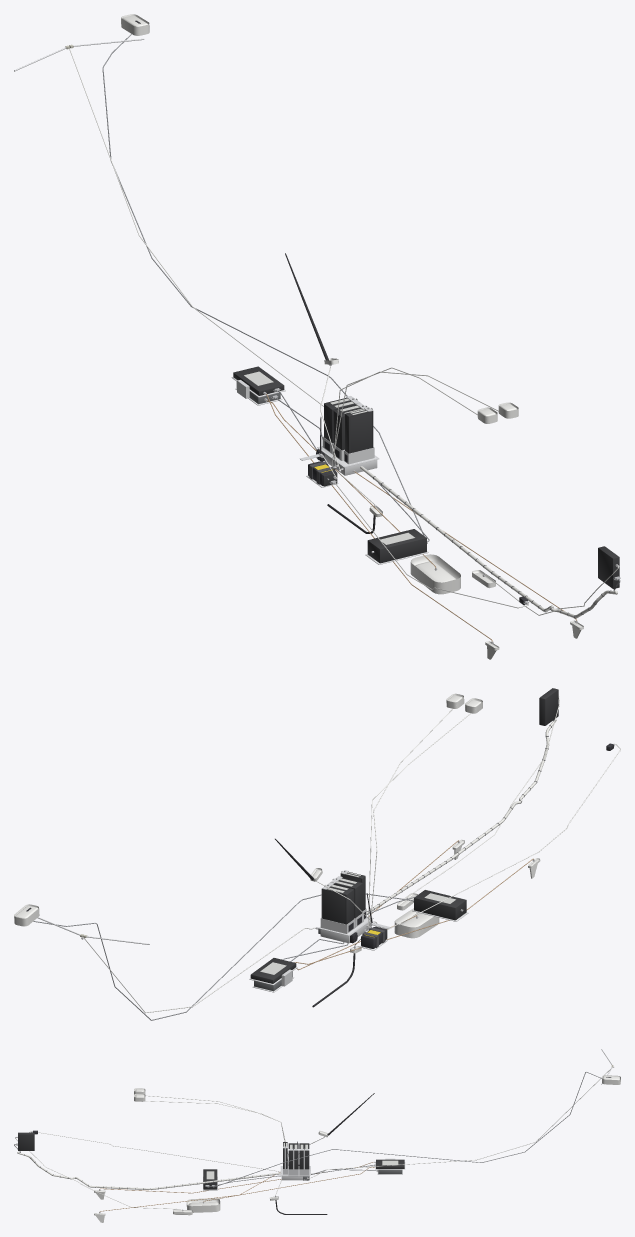
Rendered from da40-radio.glb.
The picture shows the model from 3 angles, top to bottom: view 1: azimuth 30°, elevation 25°; view 2: azimuth 150°, elevation 25°; view 3: azimuth 270°, elevation 25°; orthographic projection. The views are drawn at different scales.
Parts seen in each view (by area): view 1: WX-500 stormscope processor, ADF antenna AN 3500, G1000 main harness (instrument panel → avionics rack), GTX 33 transponder, Stormscope antenna cable → WX-500, DME KN 63; view 2: GIA 63W No 1, WX-500 stormscope processor, G1000 main harness (instrument panel → avionics rack), ADF antenna AN 3500, DME KN 63, Stormscope antenna cable → WX-500, GMA 1347 audio panel housing, Avionics enclosure; view 3: G1000 main harness (instrument panel → avionics rack), Stormscope antenna cable → WX-500, ADF antenna AN 3500, Coax: NAV antenna → splitter, GMA 1347 audio panel housing, DME KN 63, WX-500 stormscope processor, ELT remote switch cable, GIA 63W No 1, GIA 63W No 2.
Part boxes in pixels (x1=…): WX-500 stormscope processor: x1=367, y1=529, x2=427, y2=563; ADF antenna AN 3500: x1=410, y1=554, x2=460, y2=594; G1000 main harness (instrument panel → avionics rack): x1=360, y1=466, x2=617, y2=618; GTX 33 transponder: x1=345, y1=409, x2=373, y2=453; Stormscope antenna cable → WX-500: x1=102, y1=34, x2=424, y2=535; DME KN 63: x1=233, y1=366, x2=284, y2=395; GIA 63W No 1: x1=321, y1=884, x2=354, y2=924; WX-500 stormscope processor: x1=413, y1=890, x2=466, y2=920; G1000 main harness (instrument panel → avionics rack): x1=366, y1=719, x2=556, y2=914; ADF antenna AN 3500: x1=394, y1=908, x2=439, y2=938; DME KN 63: x1=250, y1=958, x2=296, y2=983; Stormscope antenna cable → WX-500: x1=33, y1=893, x2=413, y2=1020; GMA 1347 audio panel housing: x1=539, y1=688, x2=559, y2=725; Avionics enclosure: x1=318, y1=916, x2=373, y2=943; G1000 main harness (instrument panel → avionics rack): x1=17, y1=1151, x2=280, y2=1189; Stormscope antenna cable → WX-500: x1=213, y1=1072, x2=602, y2=1187; ADF antenna AN 3500: x1=186, y1=1198, x2=220, y2=1212; Coax: NAV antenna → splitter: x1=307, y1=1066, x2=614, y2=1179; GMA 1347 audio panel housing: x1=16, y1=1132, x2=34, y2=1150; DME KN 63: x1=374, y1=1159, x2=404, y2=1168; WX-500 stormscope processor: x1=203, y1=1169, x2=217, y2=1189; ELT remote switch cable: x1=29, y1=1131, x2=280, y2=1171; GIA 63W No 1: x1=299, y1=1143, x2=309, y2=1169; GIA 63W No 2: x1=288, y1=1143, x2=298, y2=1169.
Bounding box in the file's own units: 1.06 × 1.74 × 6.17.
